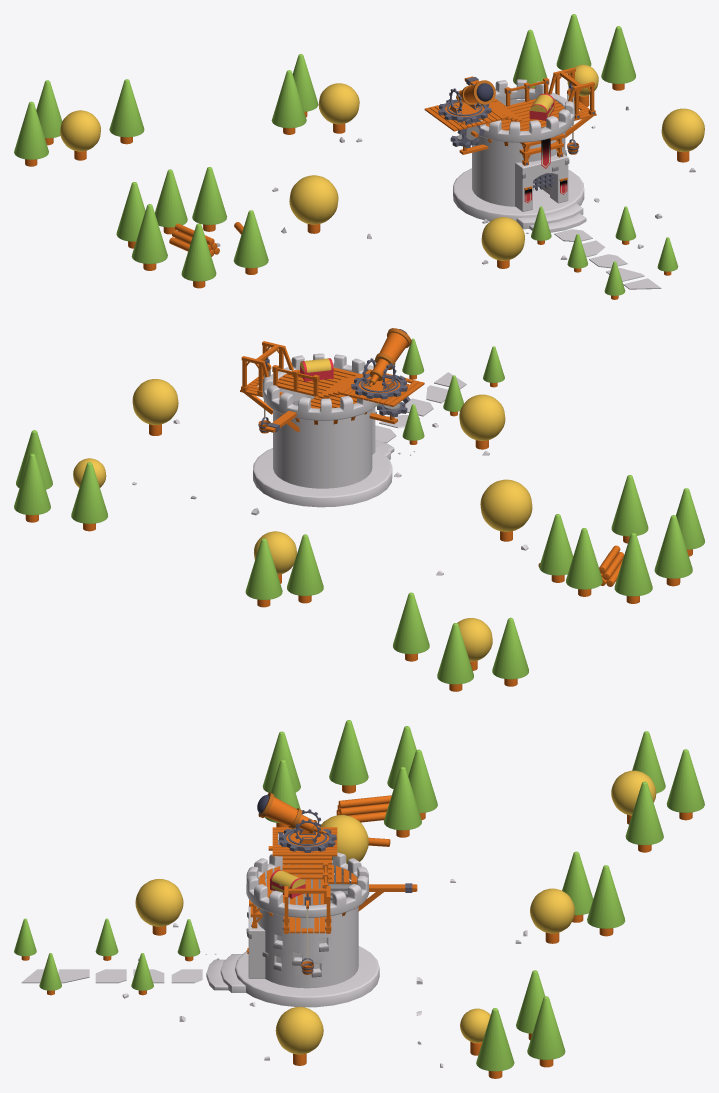
File: smallWorld.glb
The picture shows the model from 3 angles, top to bottom: view 1: azimuth 30°, elevation 25°; view 2: azimuth 150°, elevation 25°; view 3: azimuth 270°, elevation 25°; orthographic projection. The views are drawn at different scales.
Visible parts, largest first — view 1: Cylinder.005, Cylinder.062, Cylinder.013, foliage.001, Cube, foliage.002, foliage.005, foliage, foliage.004, Cylinder.050, Cylinder.047, Cylinder.048 (+20 smaller); view 2: Cylinder.005, Cylinder.062, Cylinder.013, foliage.001, foliage.002, foliage.005, Cylinder.049, Cylinder.050, Cylinder.044, Cylinder.052, Cylinder.028, Cylinder.046 (+12 smaller); view 3: Cylinder.005, Cylinder.062, Cylinder.013, foliage.002, foliage.005, foliage, Cylinder.050, Cylinder.046, Cylinder.043, Cylinder.052, Cylinder.028, Cylinder.053 (+18 smaller).
Part boxes in pixels (<box>): Cylinder.005: <box>472,99,565,206</box>; Cylinder.062: <box>453,168,584,221</box>; Cylinder.013: <box>479,79,574,142</box>; foliage.001: <box>289,175,338,224</box>; Cube: <box>515,153,568,211</box>; foliage.002: <box>481,217,524,260</box>; foliage.005: <box>661,108,704,152</box>; foliage: <box>318,83,359,124</box>; foliage.004: <box>60,110,100,151</box>; Cylinder.050: <box>131,204,167,263</box>; Cylinder.047: <box>181,223,216,281</box>; Cylinder.048: <box>233,210,268,268</box>; Cylinder.005: <box>273,388,372,488</box>; Cylinder.062: <box>253,448,392,507</box>; Cylinder.013: <box>262,353,378,420</box>; foliage.001: <box>480,479,532,531</box>; foliage.002: <box>459,394,505,440</box>; foliage.005: <box>132,379,178,425</box>; Cylinder.049: <box>614,533,652,596</box>; Cylinder.050: <box>654,515,692,578</box>; Cylinder.044: <box>566,528,602,589</box>; Cylinder.052: <box>437,623,473,684</box>; Cylinder.028: <box>14,453,50,515</box>; Cylinder.046: <box>245,538,282,599</box>; Cylinder.005: <box>256,874,358,988</box>; Cylinder.062: <box>235,946,379,1007</box>; Cylinder.013: <box>246,852,369,917</box>; foliage.002: <box>135,879,183,926</box>; foliage.005: <box>275,1006,323,1054</box>; foliage: <box>530,888,574,933</box>; Cylinder.050: <box>329,720,368,785</box>; Cylinder.046: <box>587,865,625,928</box>; Cylinder.043: <box>384,767,421,830</box>; Cylinder.052: <box>666,749,704,812</box>; Cylinder.028: <box>527,996,565,1059</box>; Cylinder.053: <box>625,781,663,845</box>.
Bounding box in the file's own units: 28.98 × 6.93 × 27.98.
